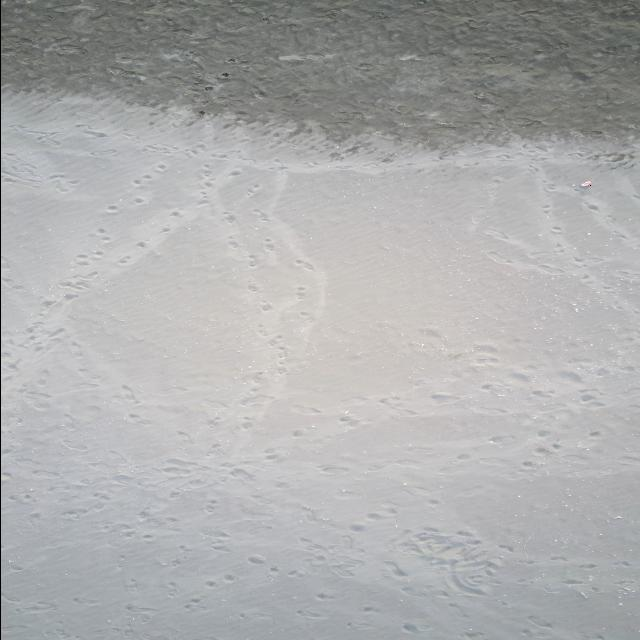Garbage: (582, 180, 591, 187)
